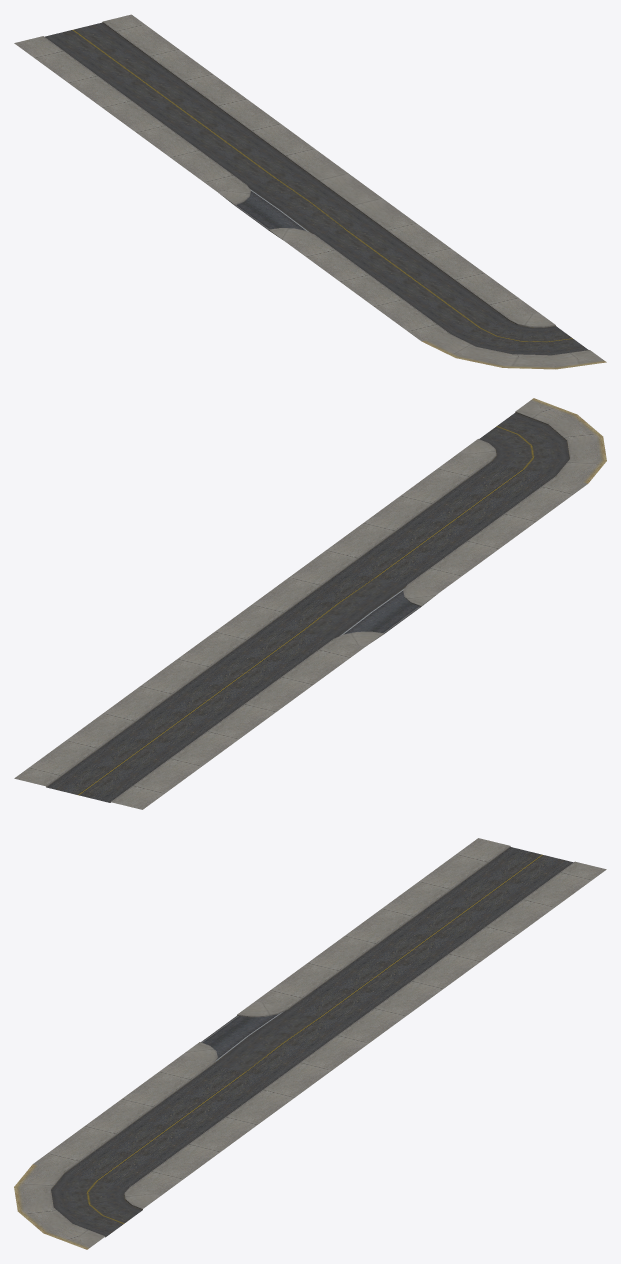
The model's file is vegassroad122.obj.
3 renders of one model, top to bottom at view 1: azimuth 30°, elevation 25°; view 2: azimuth 150°, elevation 25°; view 3: azimuth 330°, elevation 25°, orthographic. The views are drawn at different scales.
Parts seen in each view (by area): view 1: VegasSroad122; view 2: VegasSroad122; view 3: VegasSroad122.
Boxes of the visible parts, x1,y1,x2,y2 form: VegasSroad122: (14,14,606,369); VegasSroad122: (14,398,606,809); VegasSroad122: (14,838,606,1249).
Bounding box in the file's own units: 20.01 × 0.2217 × 140.
Materials: 6 (6 with a texture image).
